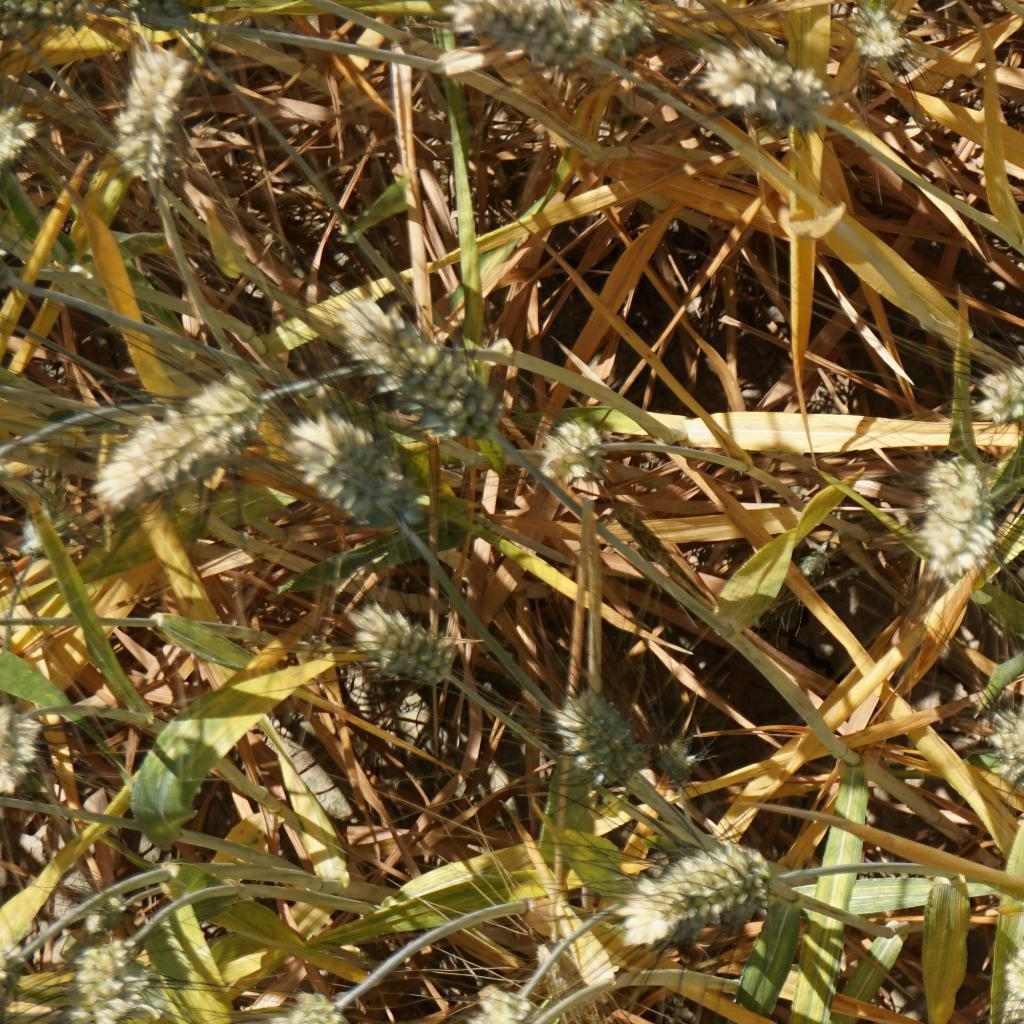0-0: (330, 290, 521, 449), (608, 823, 777, 968), (102, 386, 238, 509), (291, 419, 411, 541), (456, 2, 622, 90), (106, 49, 198, 202), (695, 55, 844, 135), (539, 679, 646, 789), (356, 602, 462, 695), (923, 442, 992, 582), (525, 393, 616, 492), (41, 943, 149, 1024), (437, 976, 553, 1024), (961, 338, 1024, 425), (842, 0, 900, 67), (197, 998, 344, 1024), (988, 667, 1024, 772), (788, 535, 837, 602), (990, 929, 1024, 1024), (654, 734, 705, 793)
